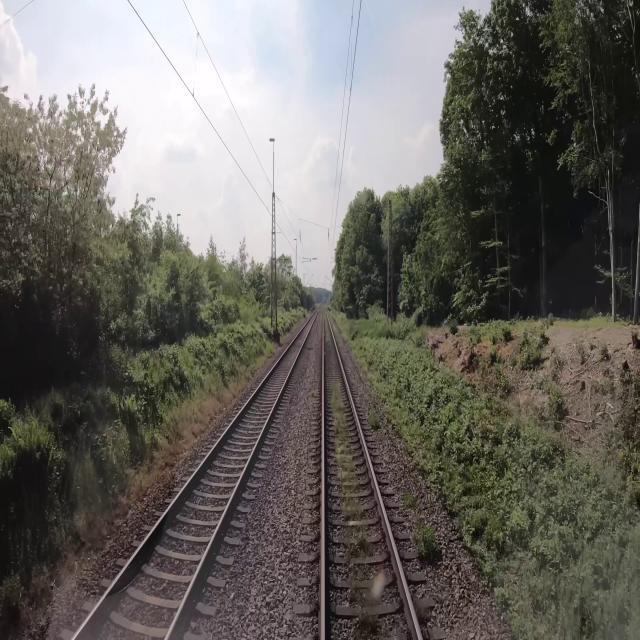Plant: (331, 379, 373, 562), (412, 524, 435, 559), (355, 614, 381, 637), (346, 582, 366, 608), (368, 410, 380, 427), (404, 493, 414, 506)
